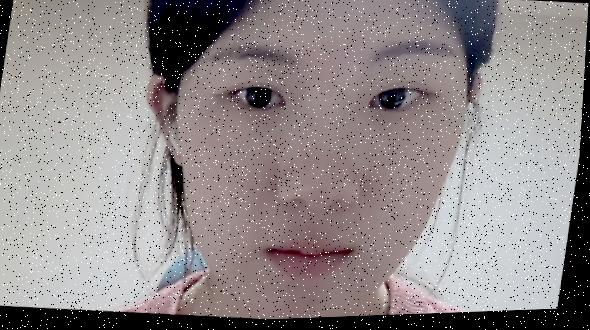eye: (377, 85, 408, 115), (245, 84, 274, 112)
iris: (369, 85, 426, 119), (234, 85, 291, 115)
